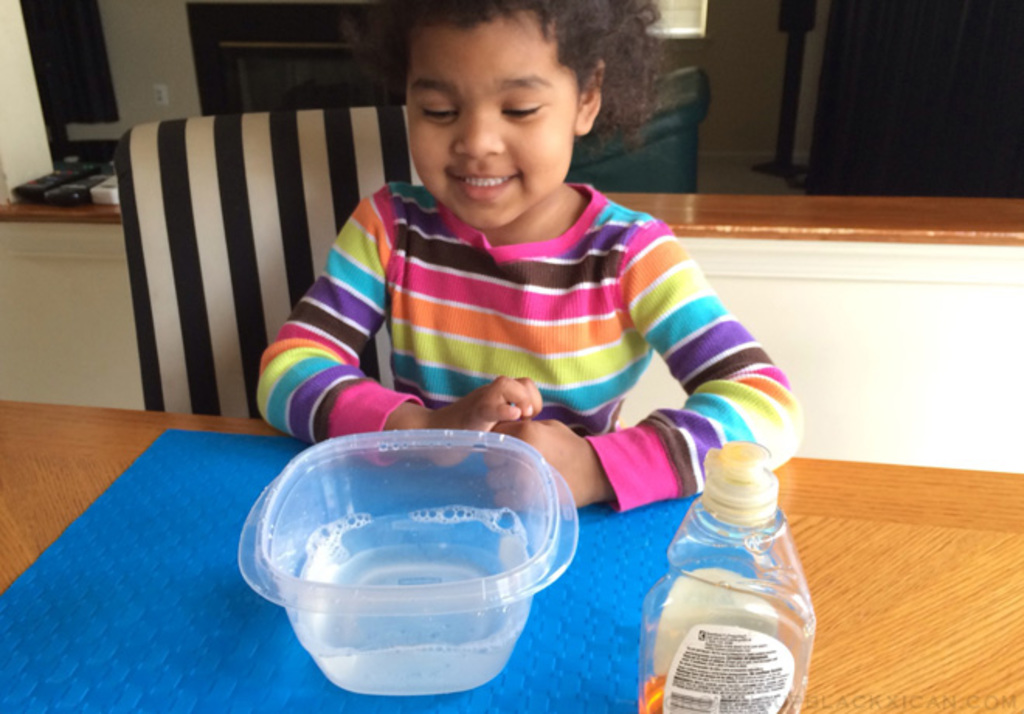Human_hand: (479, 416, 602, 509), (464, 376, 555, 436)
